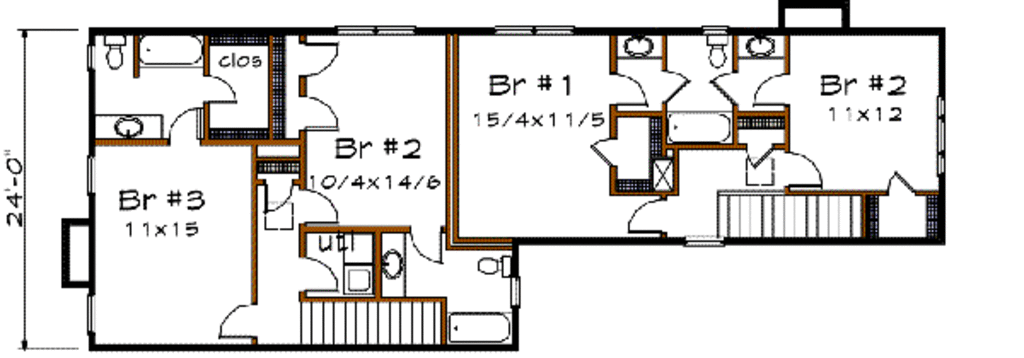door: (219, 299, 264, 342), (628, 193, 676, 233), (406, 225, 446, 269), (586, 134, 633, 171), (756, 65, 795, 108), (297, 36, 341, 74), (297, 94, 341, 130), (785, 145, 824, 185), (301, 183, 339, 221), (163, 110, 202, 145), (609, 69, 645, 103), (262, 179, 297, 213), (745, 136, 778, 172), (301, 261, 335, 293), (710, 67, 739, 102), (205, 74, 237, 105), (661, 69, 689, 103), (886, 170, 914, 199)
large_sink: (100, 35, 131, 71), (481, 253, 517, 280), (705, 30, 726, 69)
small_sink: (373, 232, 405, 294), (96, 109, 162, 139), (617, 32, 672, 64), (734, 30, 781, 57)
stairs: (718, 188, 869, 247), (298, 296, 451, 347)
tub: (452, 314, 512, 350), (137, 33, 212, 61), (665, 111, 734, 141)
window: (929, 99, 951, 176), (341, 20, 411, 44), (494, 24, 575, 40), (505, 274, 533, 311), (77, 156, 101, 199), (76, 287, 97, 332), (80, 41, 97, 70)
